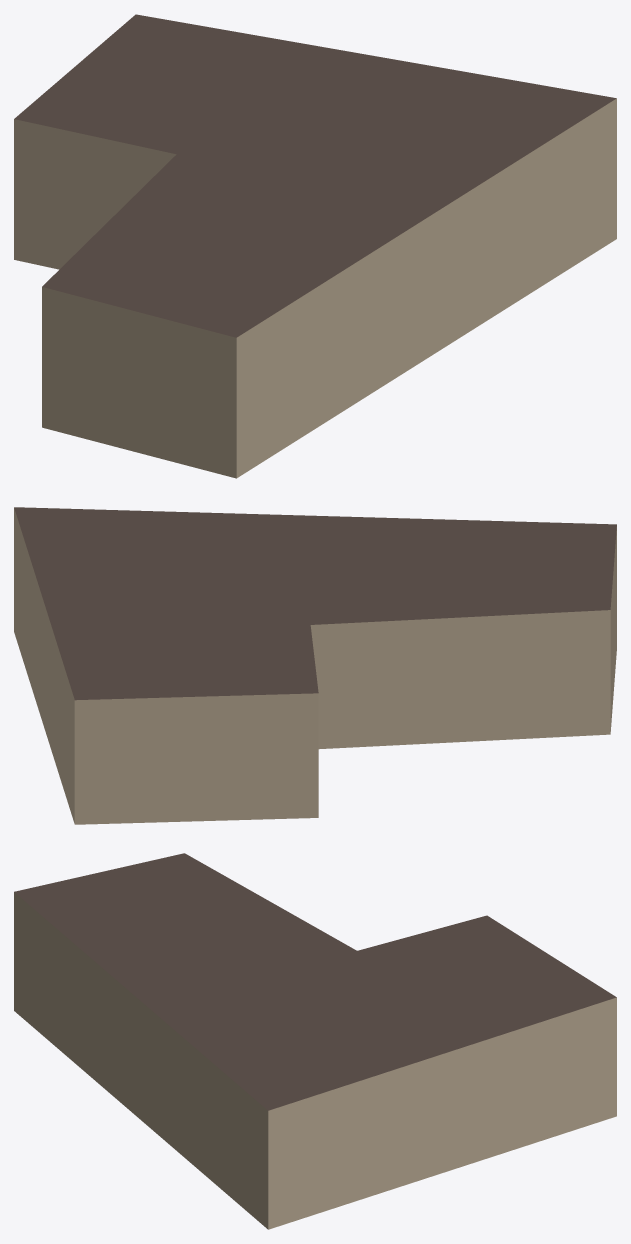
3 views of the same model, one above another, from view 1: azimuth 30°, elevation 25°; view 2: azimuth 150°, elevation 25°; view 3: azimuth 270°, elevation 25° (orthographic). The views are drawn at different scales.
Parts seen in each view (by area): view 1: HP-w859424132; view 2: HP-w859424132; view 3: HP-w859424132.
Part boxes in pixels (x1,y1,x2,y2): HP-w859424132: [14, 14, 616, 478]; HP-w859424132: [14, 507, 616, 824]; HP-w859424132: [14, 853, 616, 1229].
Size of the model in its own units: 41.79 by 9 by 41.33.
